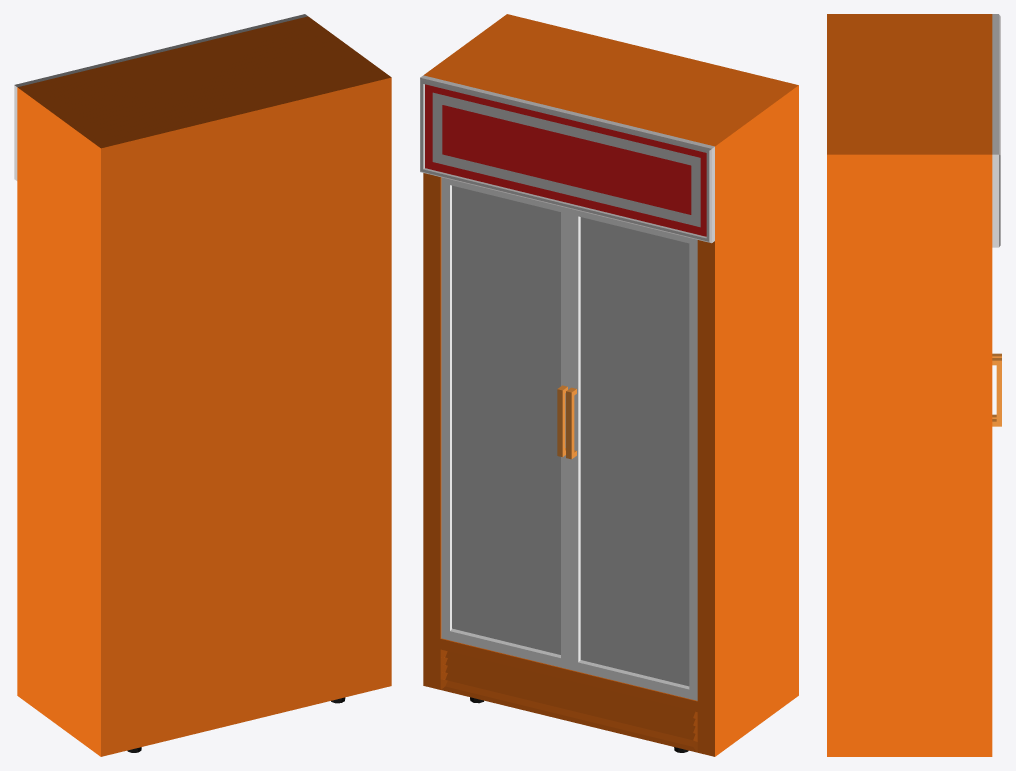
Rendered from Freezer Display Case.fbx.
The picture shows the model from 3 angles, left to right: view 1: azimuth 30°, elevation 25°; view 2: azimuth 150°, elevation 25°; view 3: azimuth 270°, elevation 25°; orthographic projection.
Parts seen in each view (by area): view 1: Node 0; view 2: Node 0, Node 1, Node 2; view 3: Node 0, Node 2.
Part boxes in pixels (left/top/right/bottom): Node 0: left=14, top=14, right=391, bottom=756; Node 0: left=420, top=14, right=798, bottom=756; Node 1: left=566, top=208, right=697, bottom=700; Node 2: left=441, top=177, right=569, bottom=669; Node 0: left=827, top=14, right=1000, bottom=756; Node 2: left=992, top=358, right=1001, bottom=426.
Bounding box in the file's own units: 0.6182 × 2.39 × 1.18.
